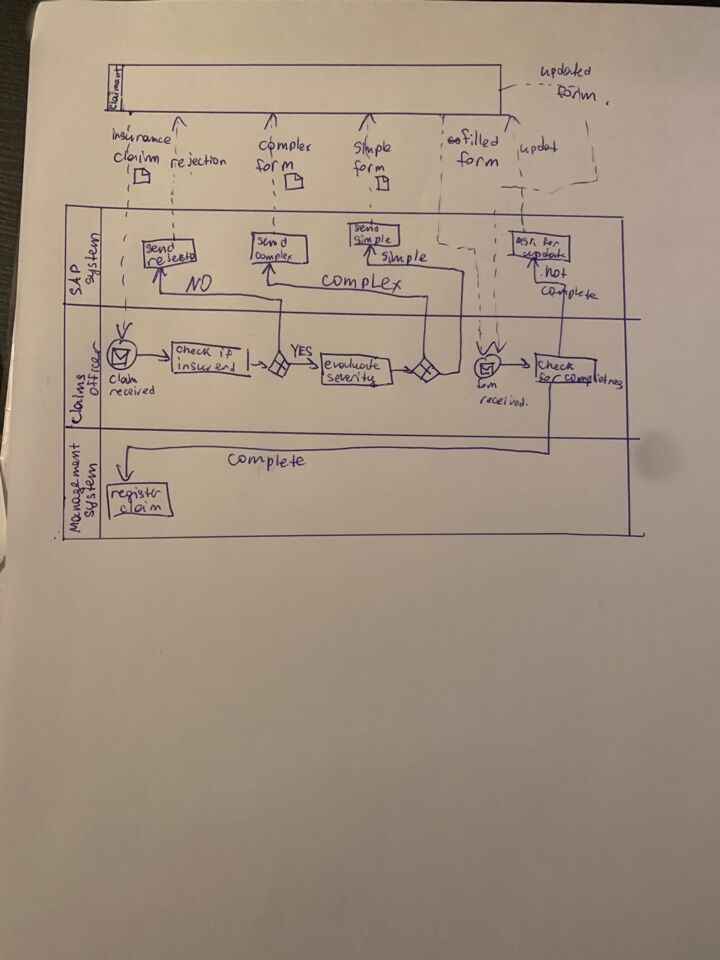Check: (537, 359, 577, 373), (174, 344, 212, 358)
Claim: (118, 503, 164, 516)
Claimant: (108, 65, 124, 111)
Complex: (253, 251, 293, 263)
Management: (67, 441, 83, 531)
NO: (189, 273, 213, 293)
SAP: (66, 262, 82, 295)
Send: (144, 243, 177, 255)
Simple: (352, 140, 392, 157), (353, 234, 394, 248)
YES: (287, 343, 316, 364)
asr: (515, 234, 536, 247)
claim: (112, 148, 161, 164), (109, 374, 139, 386)
claims: (67, 373, 88, 423)
complete: (226, 453, 304, 472), (540, 285, 601, 303)
completeness: (561, 372, 625, 391)
complex: (320, 273, 402, 295), (257, 138, 313, 155)
evaluate: (323, 358, 381, 373)
filled: (458, 129, 505, 150)
for: (538, 233, 562, 250), (535, 371, 561, 385)
form: (553, 85, 601, 106), (456, 150, 499, 168), (254, 158, 296, 174), (470, 375, 502, 394), (351, 160, 386, 176)
if: (216, 347, 238, 362)
insurance: (110, 128, 174, 146)
insured: (176, 357, 240, 374)
not: (538, 267, 568, 280)
officer: (86, 341, 101, 395)
received: (478, 393, 521, 409), (110, 385, 157, 399)
register: (108, 487, 161, 502)
rejection: (169, 151, 229, 170)
relesta: (147, 249, 197, 266)
send: (255, 236, 289, 249), (353, 222, 380, 233)
severity: (326, 372, 379, 387)
simple: (378, 249, 429, 267)
system: (83, 234, 102, 286), (82, 462, 99, 518)
update: (517, 133, 562, 158), (524, 245, 569, 261)
updated: (542, 63, 593, 80)
